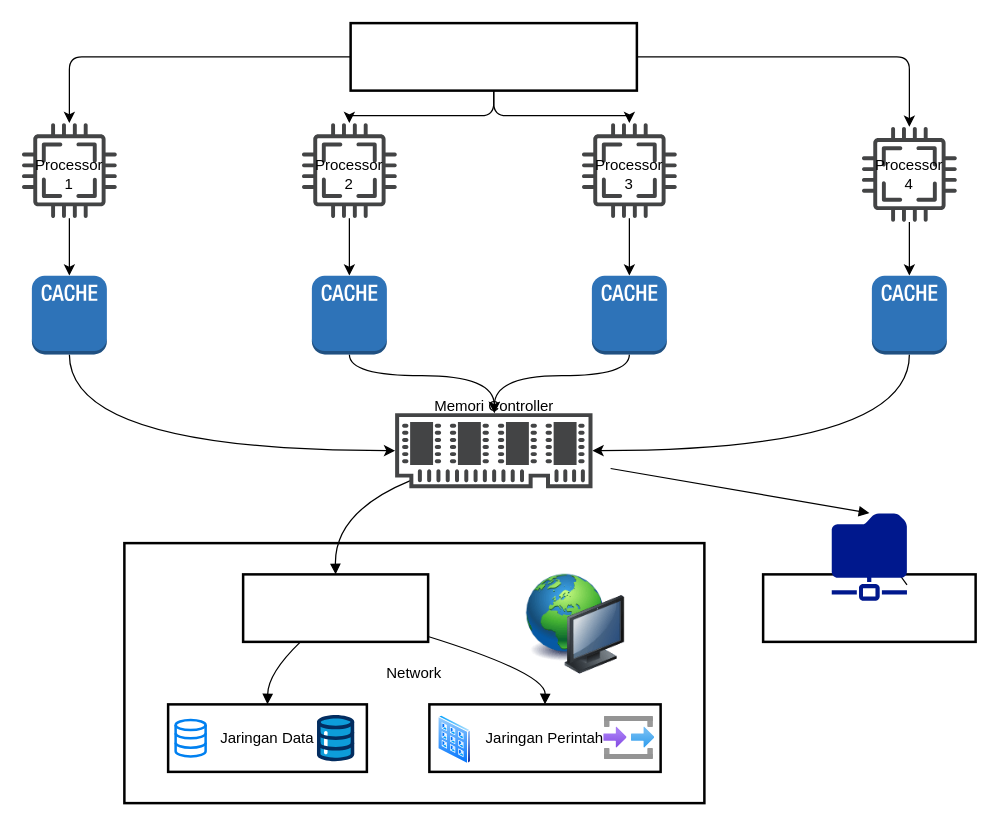
This 998x825 diagram has some shape labels left out. Here are the shapes that lost their labels. From the top down, the centre of each, then its label:
(x=493, y=56): Mulit Prosessor Simetris
(x=335, y=607): Interkoneksi
(x=868, y=607): Shared Memory
